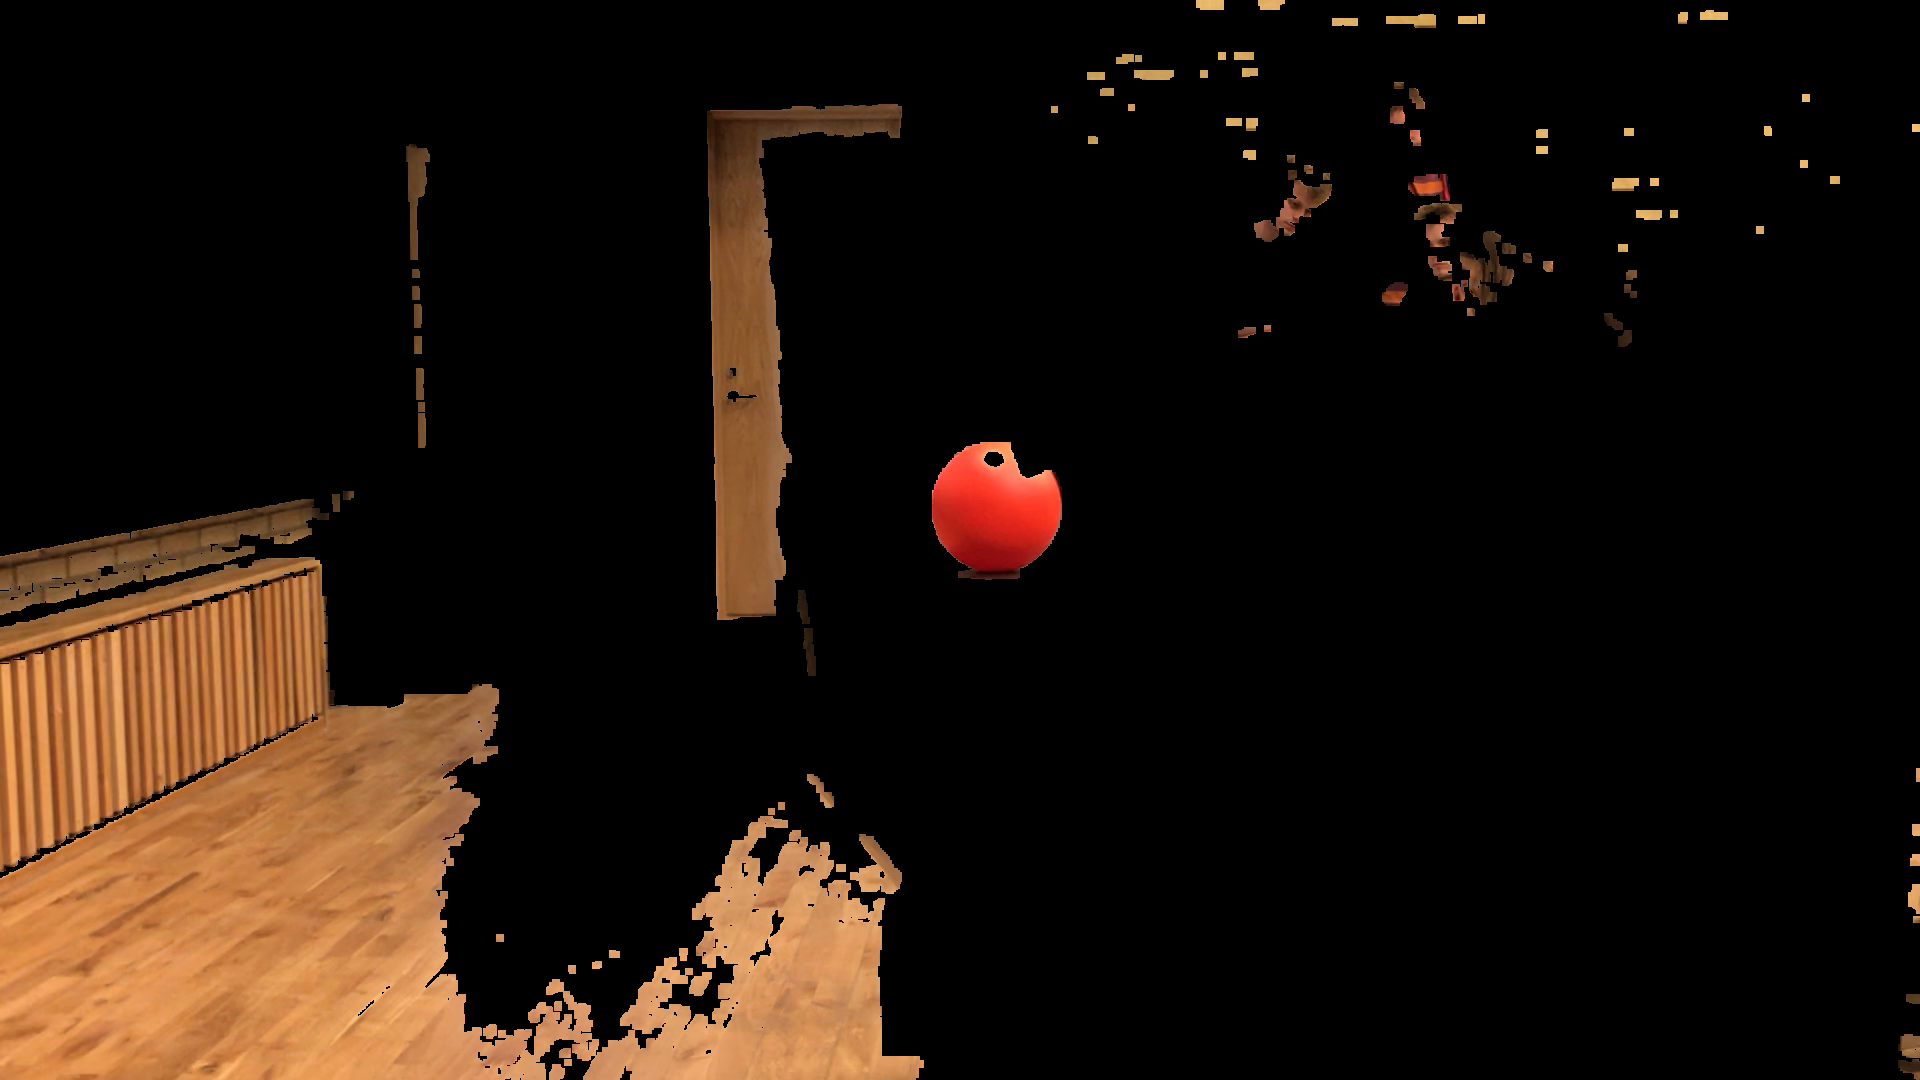Ball: (930, 434, 1080, 580)
